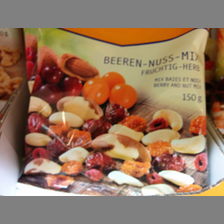nuts: (20, 28, 210, 195)
